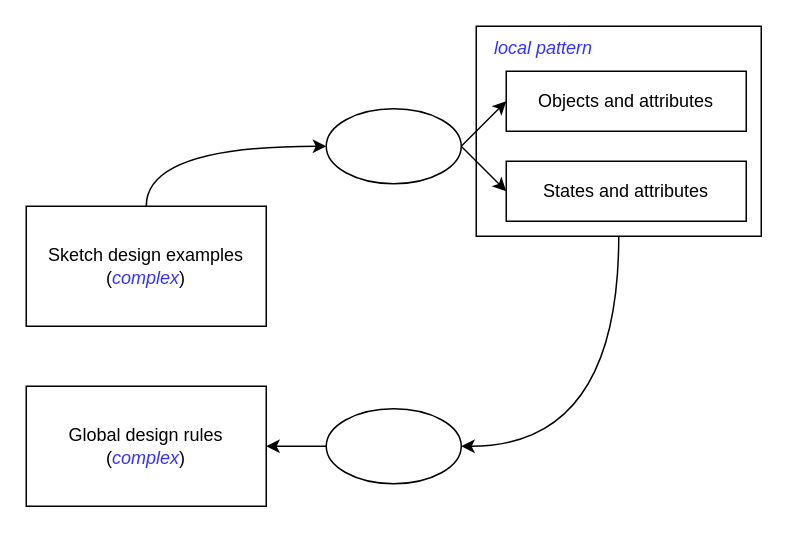
The diagram is 788 pixels wide and 533 high, and some of its shapes have lost their labels. The centre of each missing label's shape, as x and y in pixels:
"Abstraction" goes at point 393,445.
"Decomposition" goes at point 393,145.
